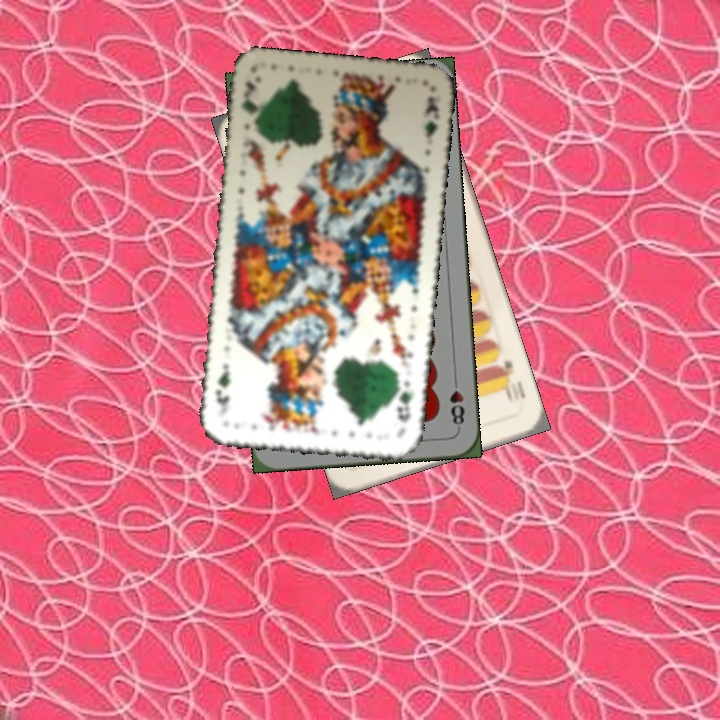E10: (493, 356, 529, 404)
GK: (392, 376, 415, 426), (237, 76, 259, 118)
H8: (446, 373, 467, 432)
